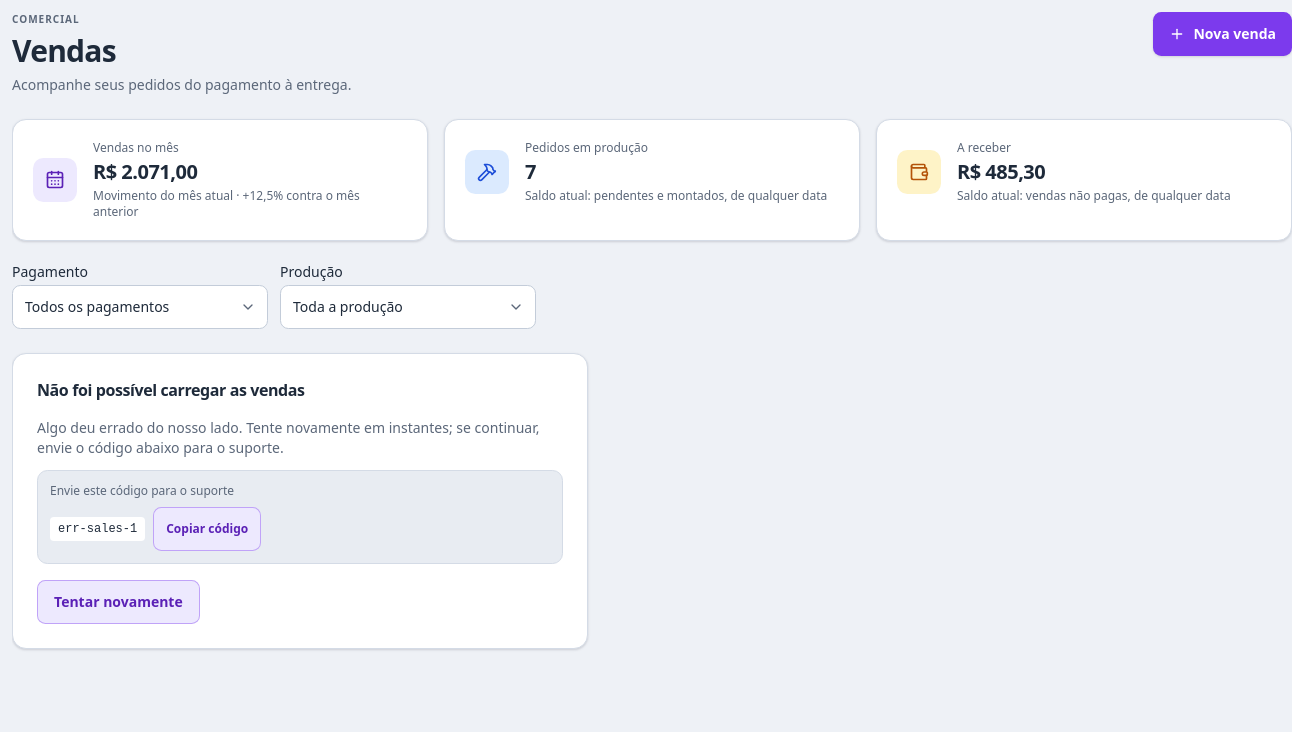
Test: the four states › shows the support code of an unexpected failure, and tries again on request
Expected: the heading "Não foi possível carregar as vendas" is shown, [37,378,305,402]
Expected: the text "err-sales-1" is shown, [50,517,145,541]
What coordinates should you click on to do the following:
click the button "Tentar novamente"
I would click on:
 (118, 602)
Its box is [37,580,200,624].
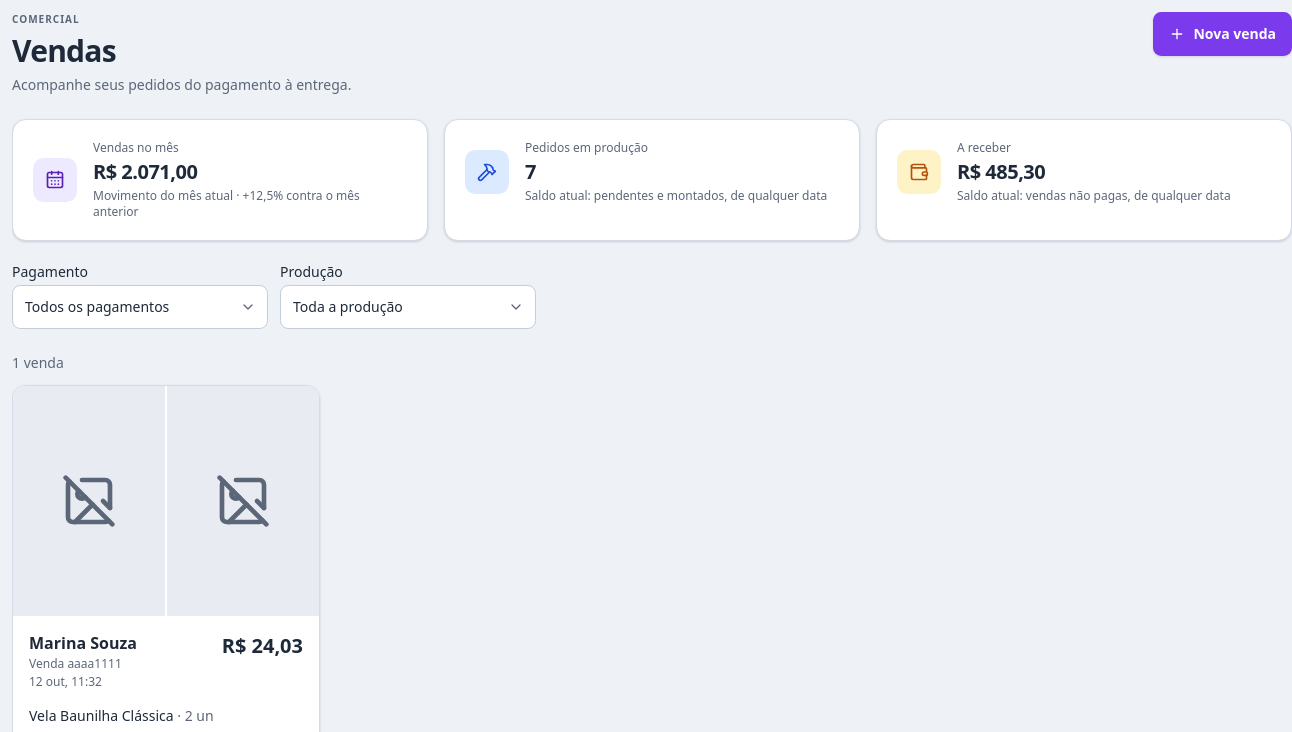
Expected: the link "Marina Souza" is shown, [29,632,137,654]
